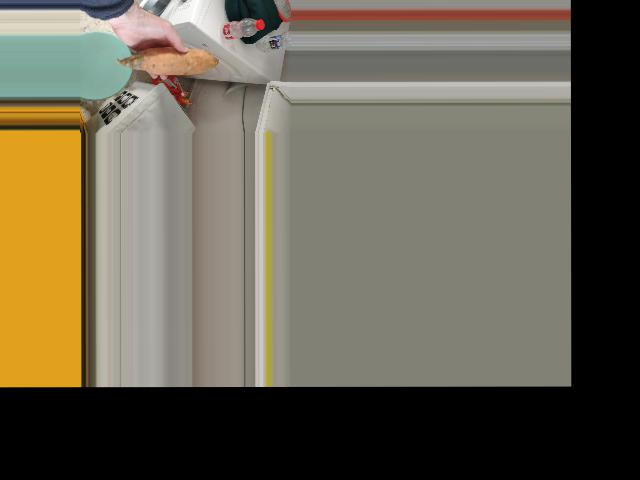sweet_potato: (130, 48, 205, 70)
